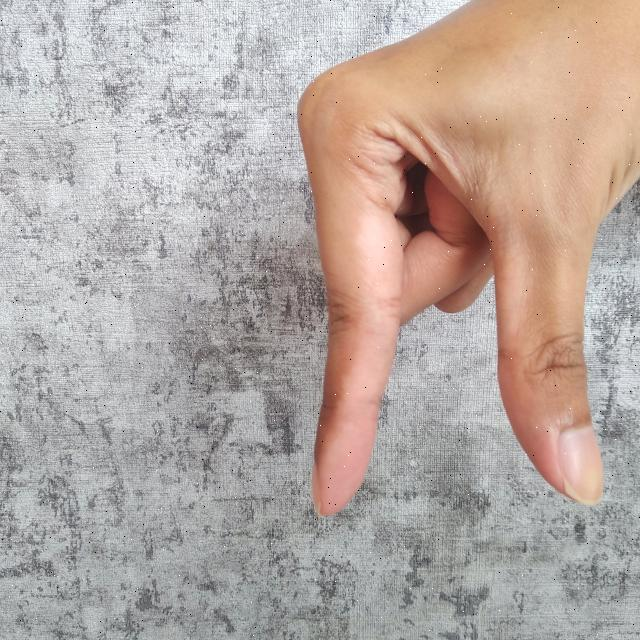Q: (287, 0, 640, 527)
